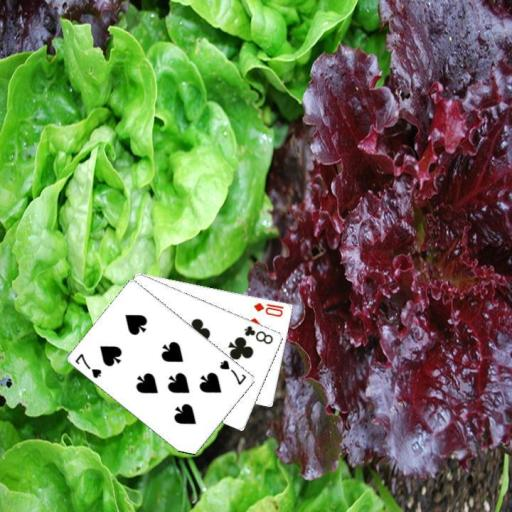10D: (251, 299, 285, 318)
7S: (72, 350, 103, 380), (216, 357, 248, 386)
8C: (241, 322, 275, 346)
